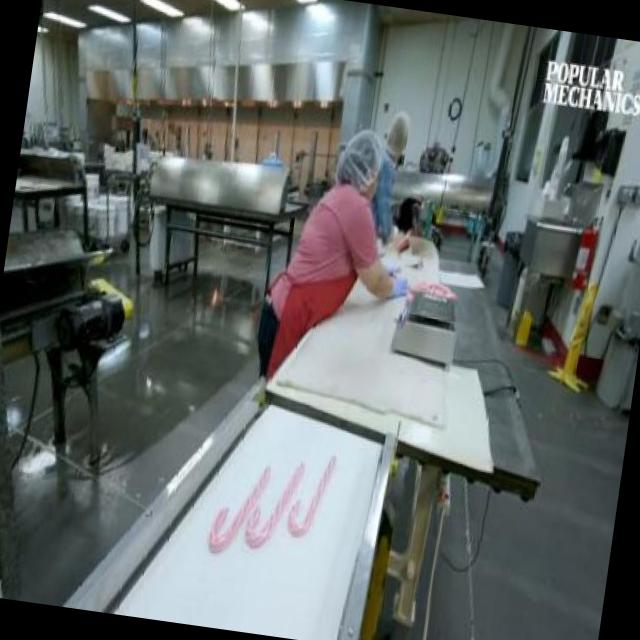hairnet: (336, 130, 387, 186), (388, 110, 416, 153)
